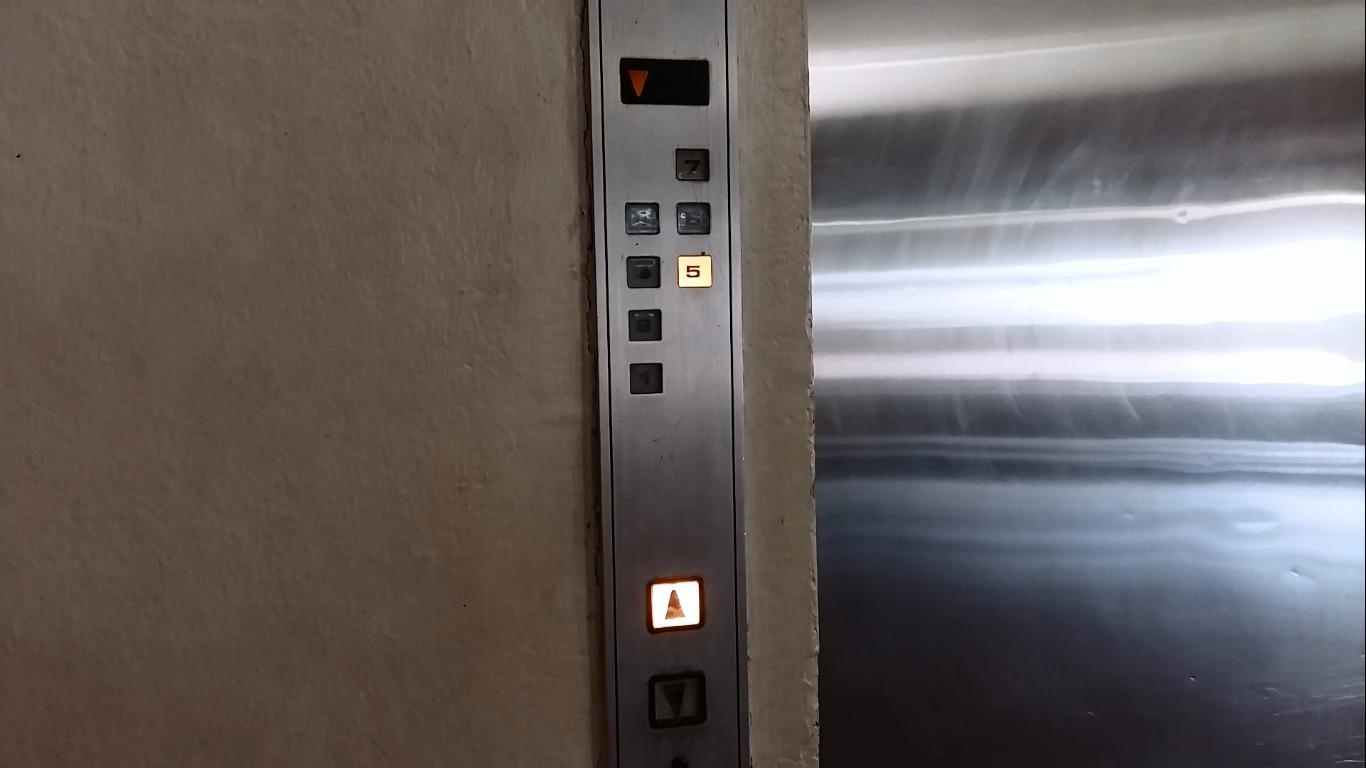1: (628, 361, 665, 396)
2: (626, 306, 664, 344)
5: (676, 253, 714, 290)
6: (674, 200, 712, 236)
7: (673, 146, 712, 183)
blur: (623, 200, 661, 236), (624, 254, 662, 290)
down: (647, 669, 708, 729)
led: (618, 56, 712, 107)
up: (645, 575, 706, 636)
